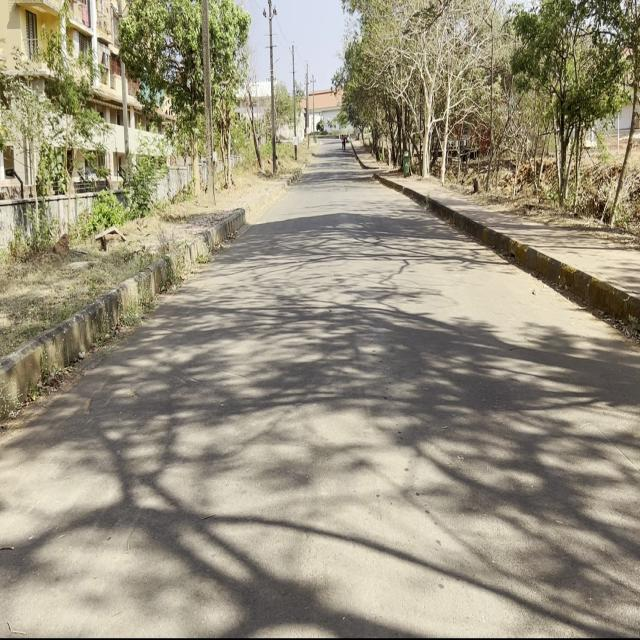Road: (6, 143, 636, 629)
